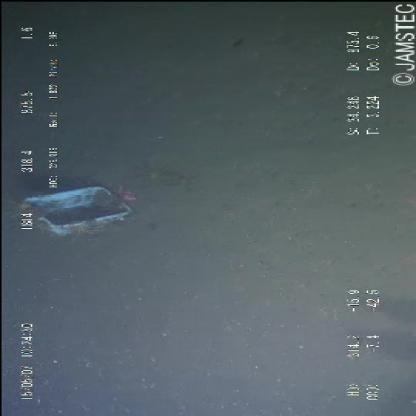Rác: (16, 180, 141, 245)
